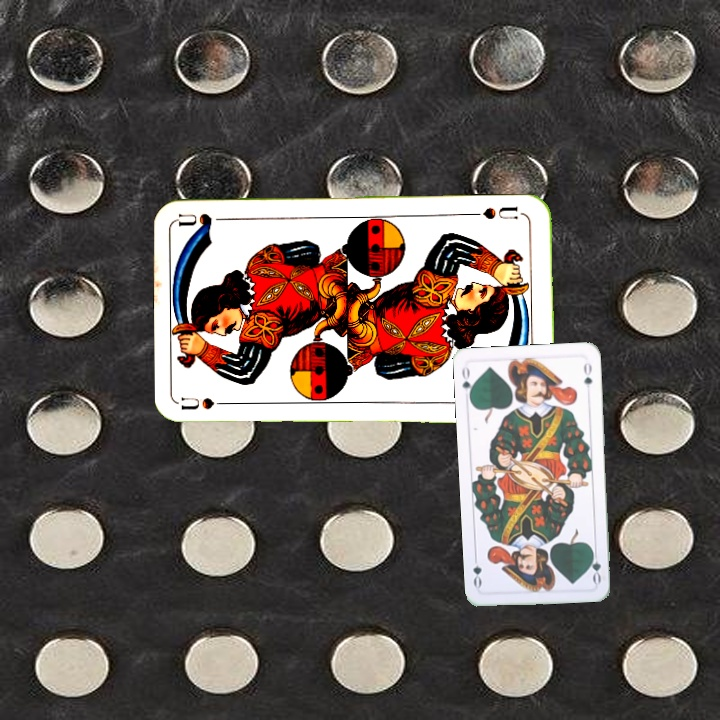GO: (458, 363, 477, 403), (587, 545, 603, 586)
SU: (468, 202, 527, 222), (179, 393, 238, 412)
